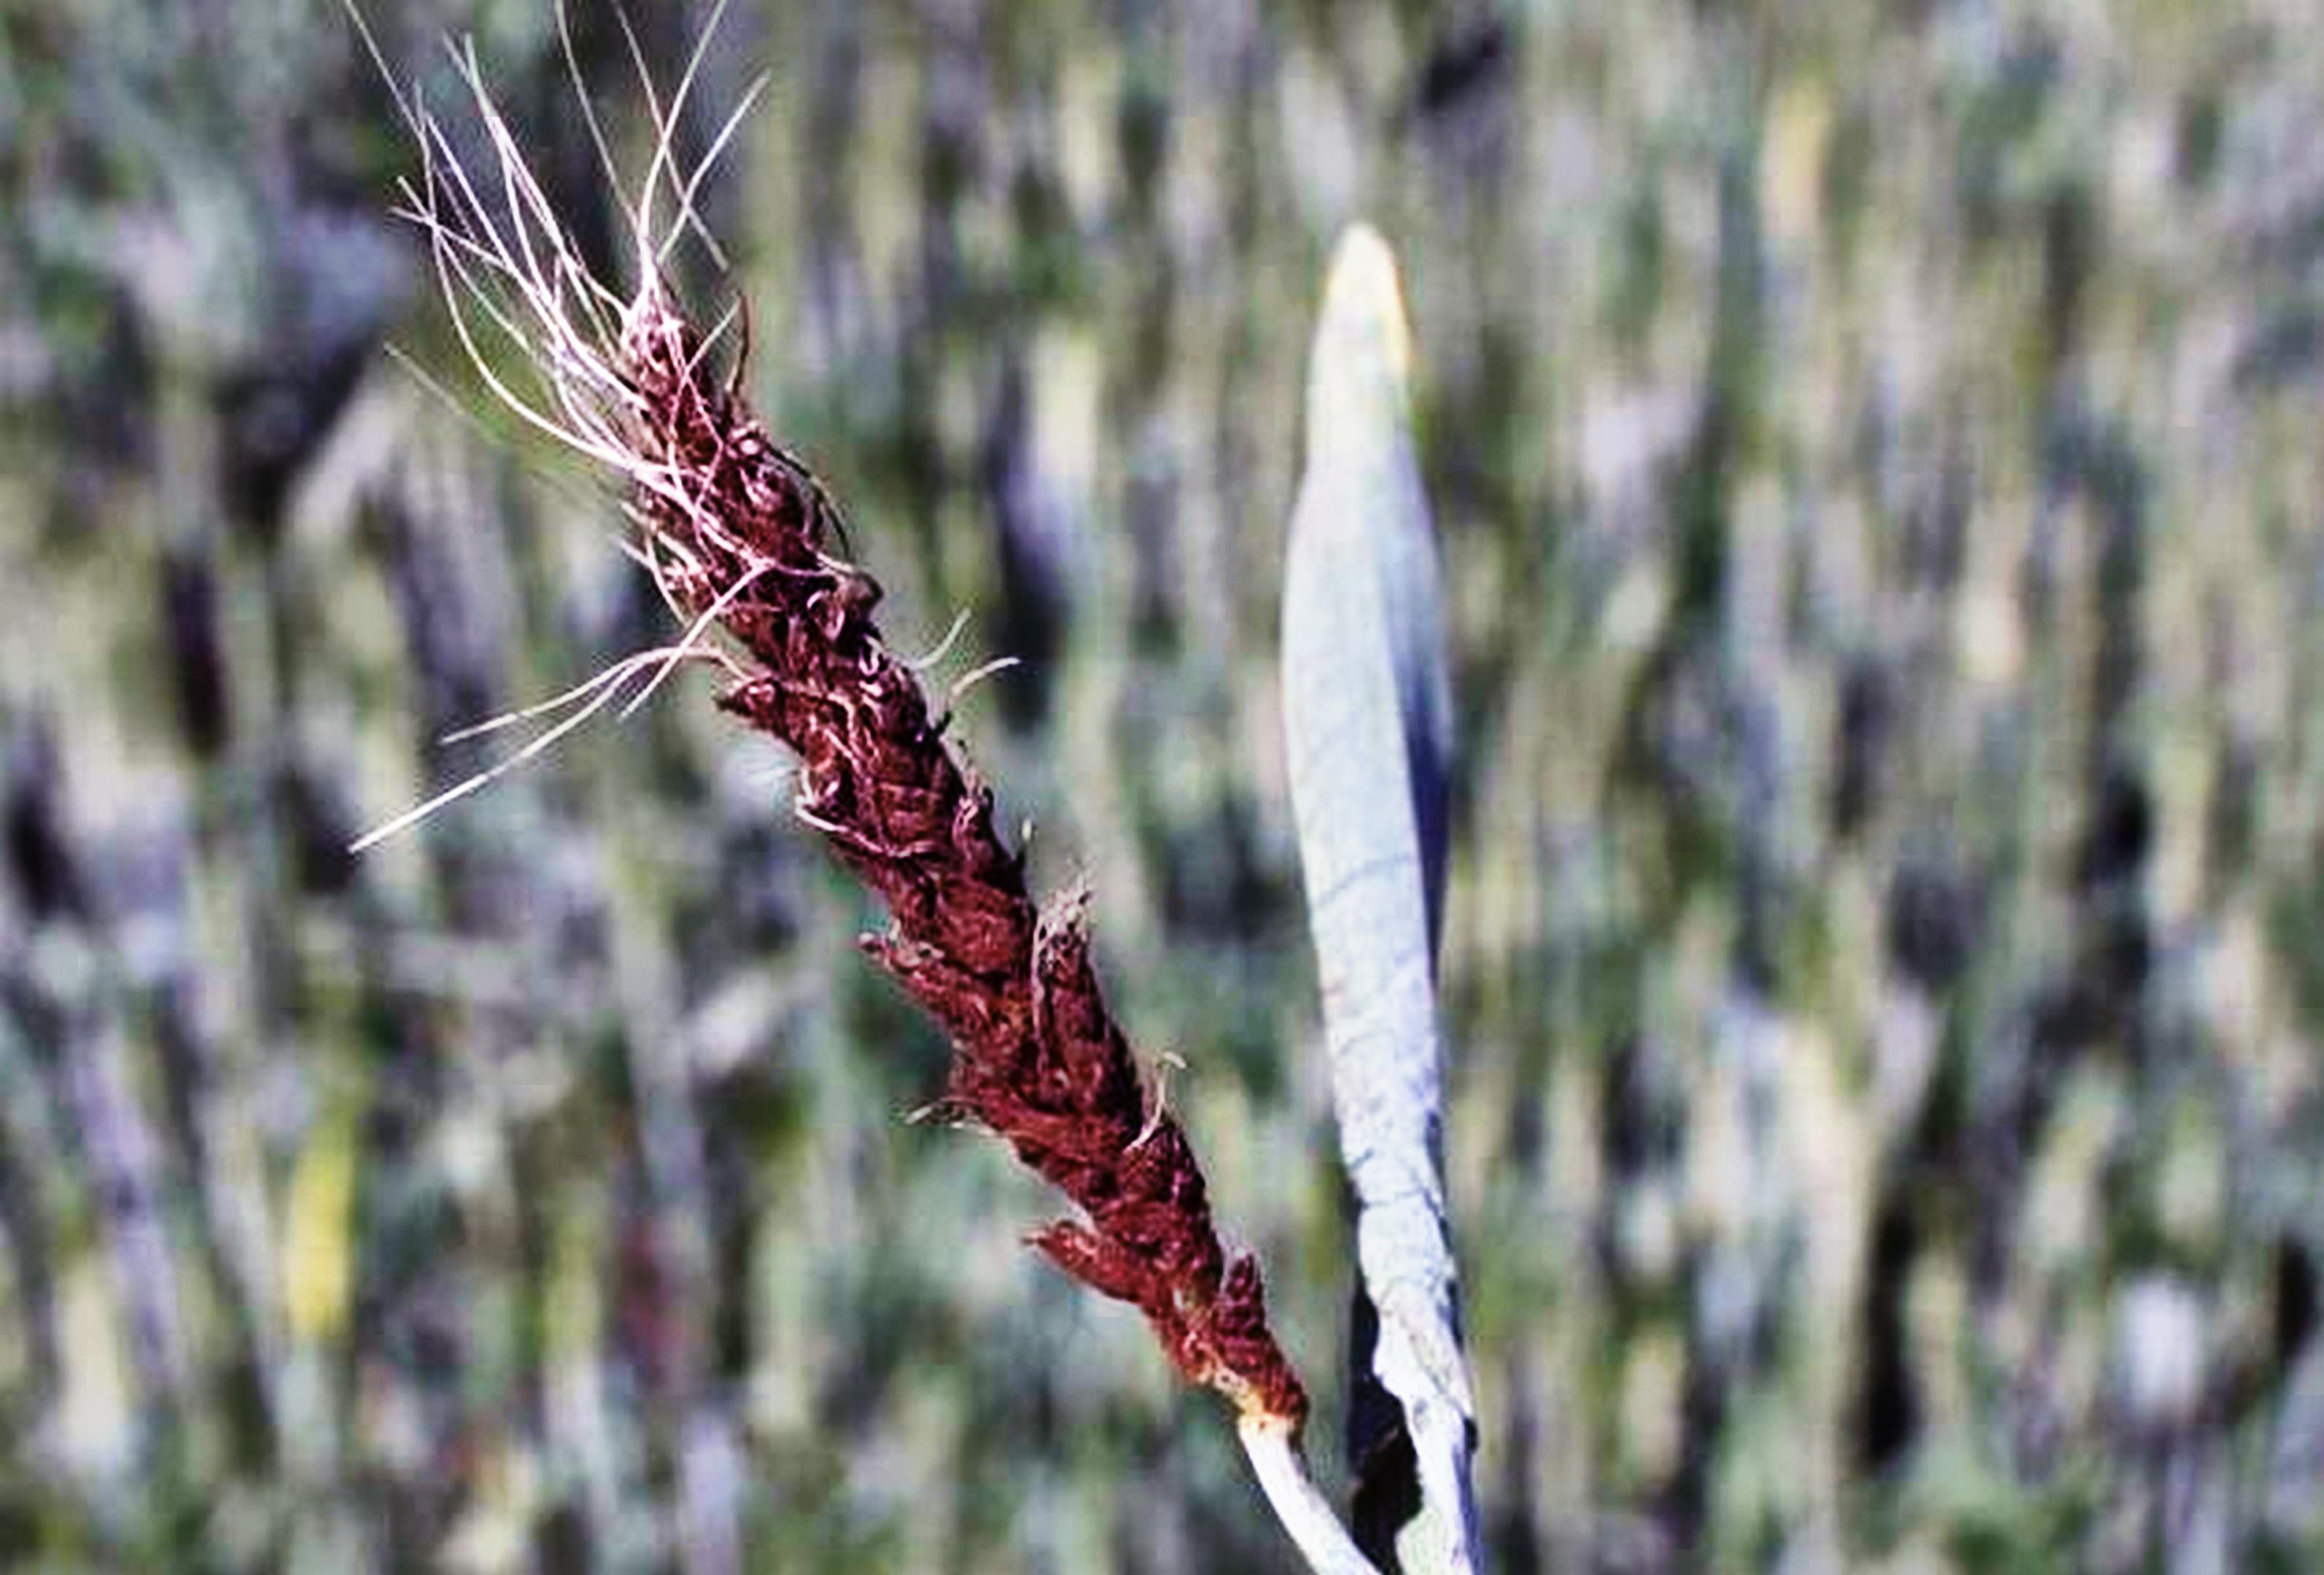Wheat Loose Smut: (436, 229, 1002, 984)
